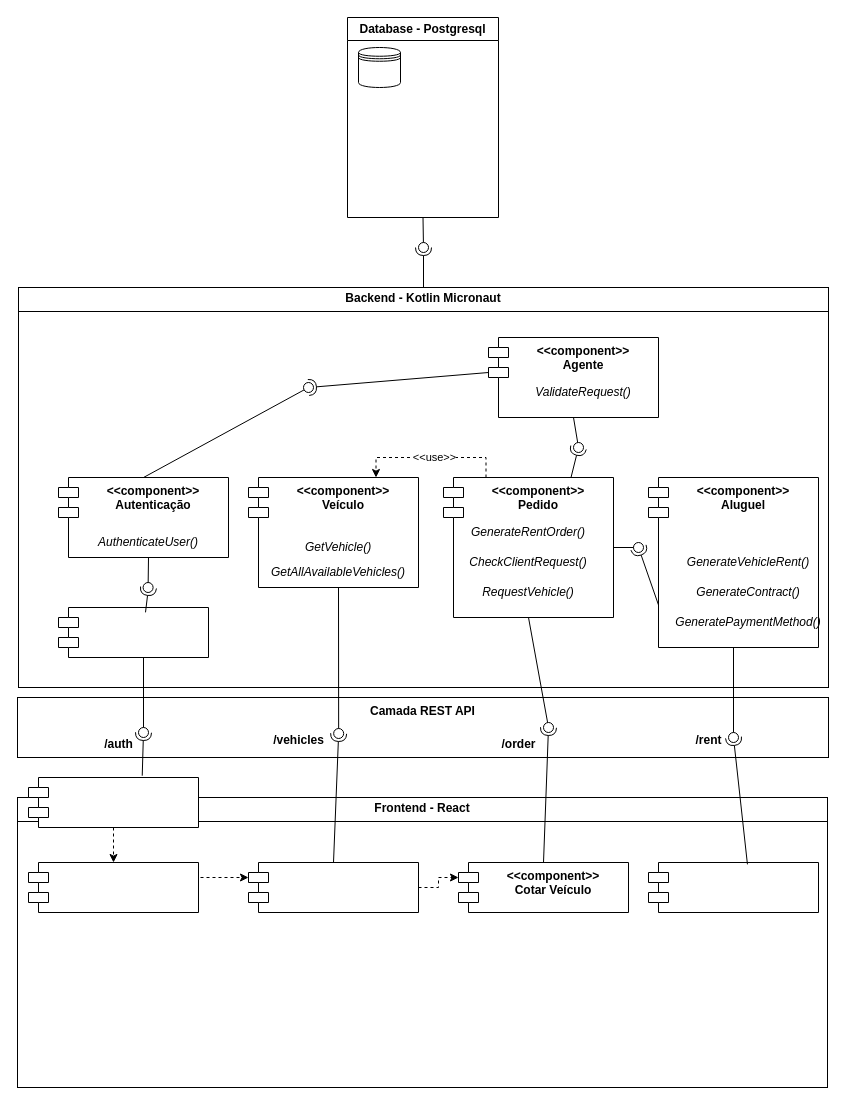
The diagram is 846 pixels wide and 1105 high, and some of its shapes have lost their labels. The shapes that lost their labels are listed below. From the top down, each one's centre as x and y in pixels, then its label:
At (133,632): "<<component>> Cliente".
At (113,802): "<<component>> Login".
At (113,887): "<<component>> UI Cliente".
At (333,887): "<<component>> Menu Veículos".
At (733,887): "<<component>> Finalizar Aluguel".
